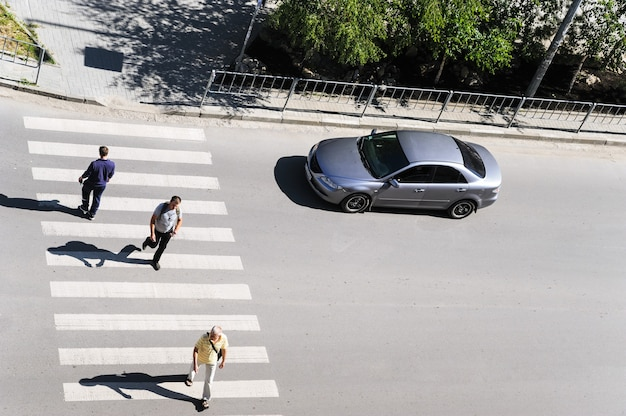Car: (304, 124, 502, 222)
Crosswalk: (48, 224, 145, 416), (56, 273, 268, 329), (24, 102, 209, 160)
Person: (176, 324, 236, 413), (138, 195, 189, 277), (79, 144, 117, 221)
